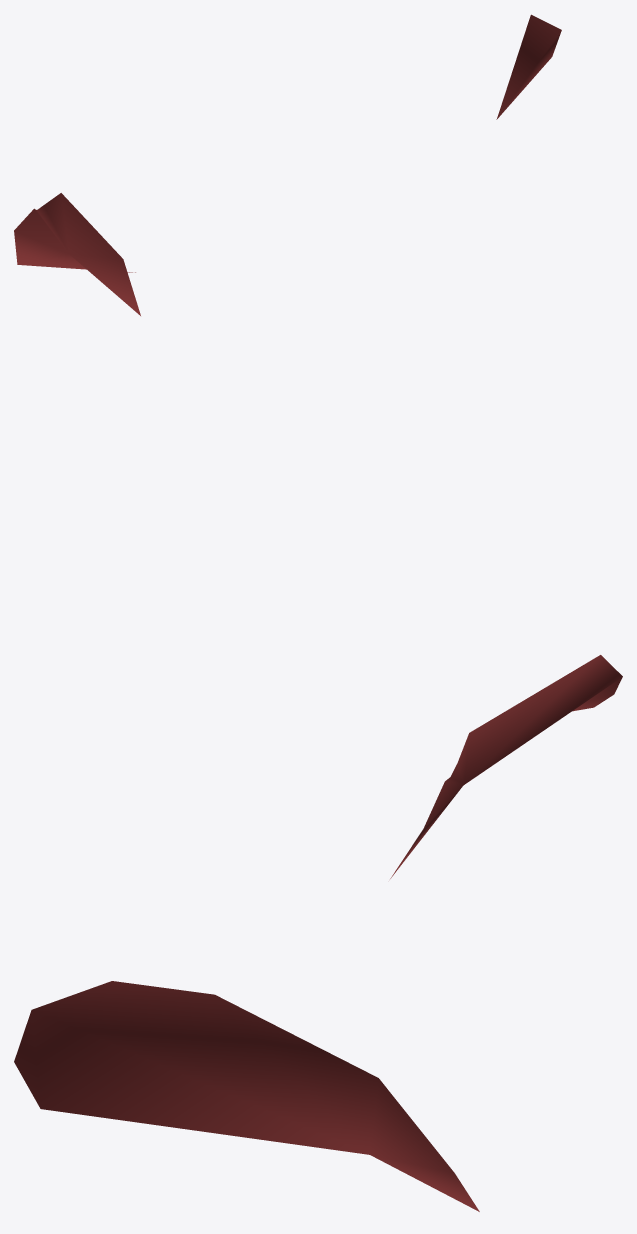
Rendered from flexor-digitorum-brevis-er.glb.
3 views of the same model, one above another, from view 1: azimuth 30°, elevation 25°; view 2: azimuth 150°, elevation 25°; view 3: azimuth 270°, elevation 25° (orthographic). The views are drawn at different scales.
Parts seen in each view (by area): view 1: Flexor digitorum brevis.er; view 2: Flexor digitorum brevis.er; view 3: Flexor digitorum brevis.er.
Part boxes in pixels (x1,y1,x2,y2): Flexor digitorum brevis.er: (14,14,561,315); Flexor digitorum brevis.er: (390,655,622,878); Flexor digitorum brevis.er: (14,981,479,1211).
Size of the model in its own units: 0.00787 by 0.00393 by 0.00722.
